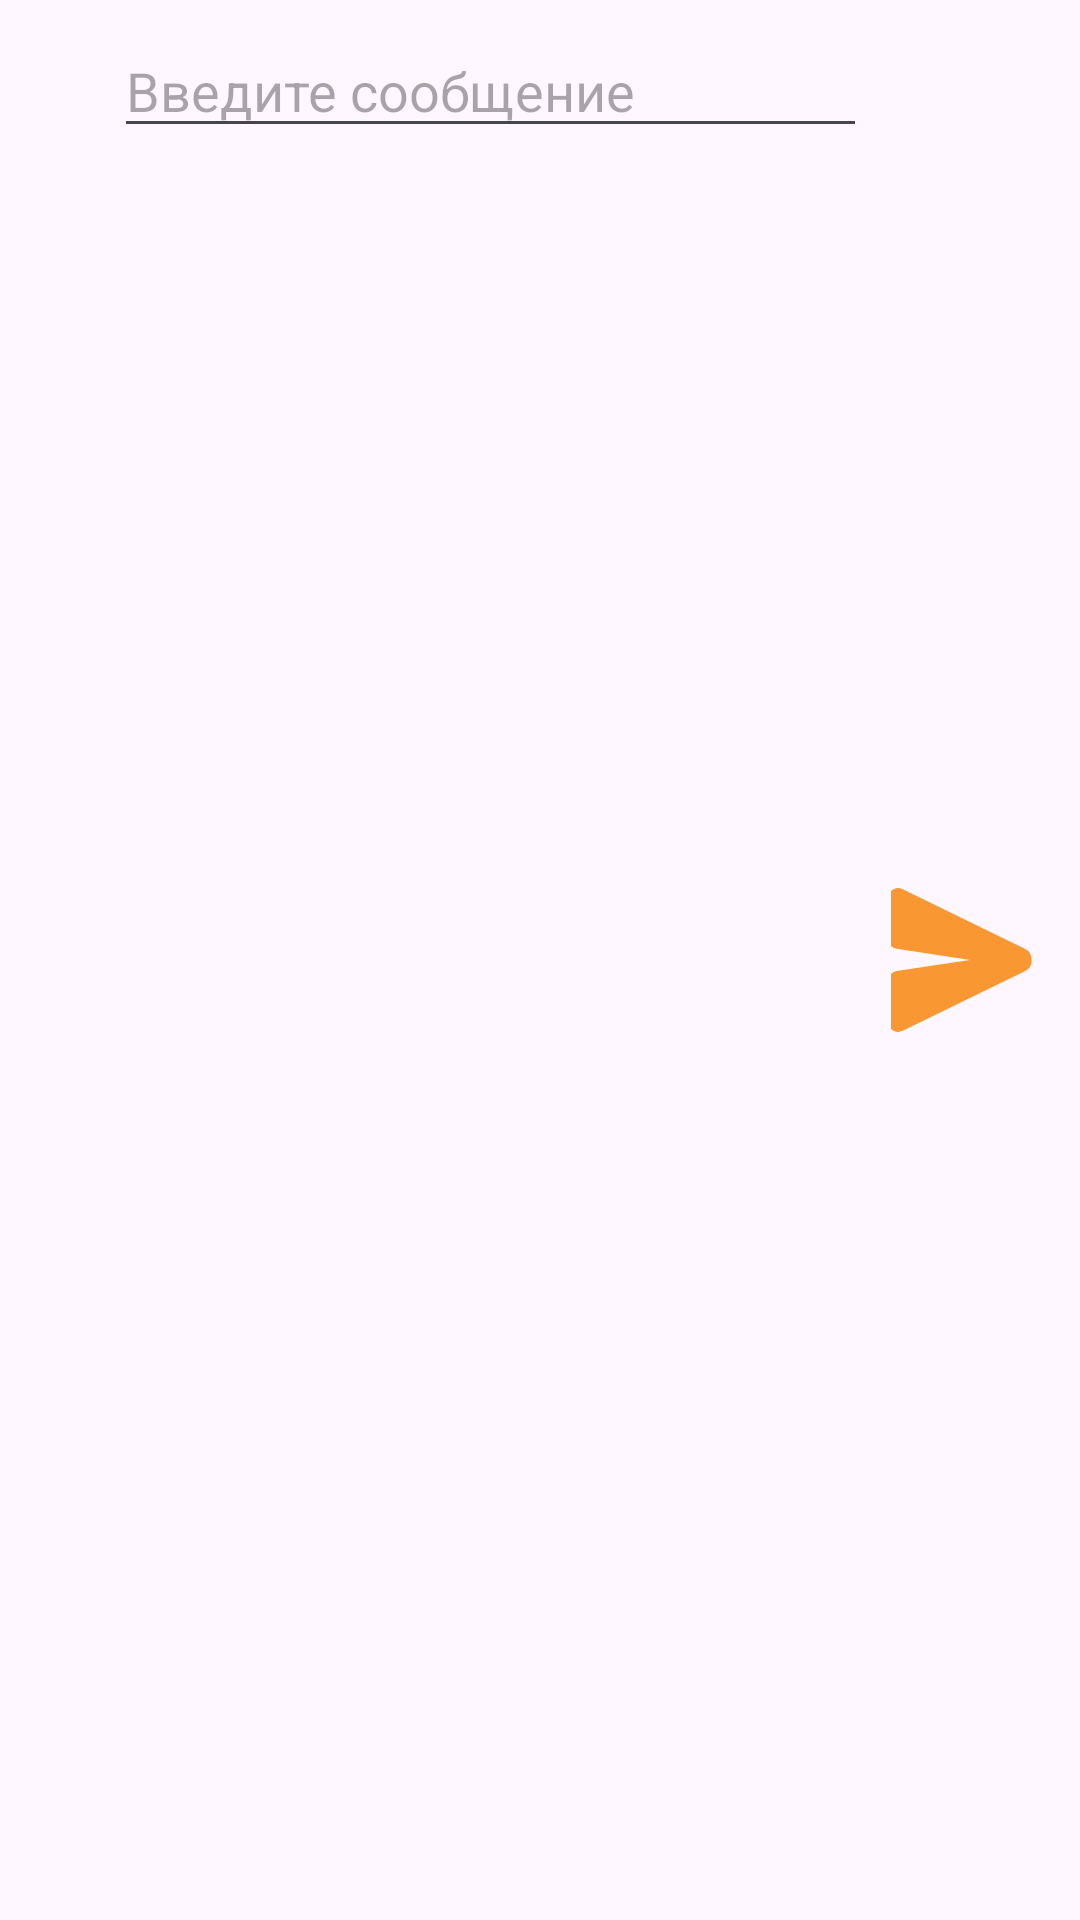

Screen size 1080×1920. Icon name, then its center in pixels as [x,y]:
Send Button: [961,960]
